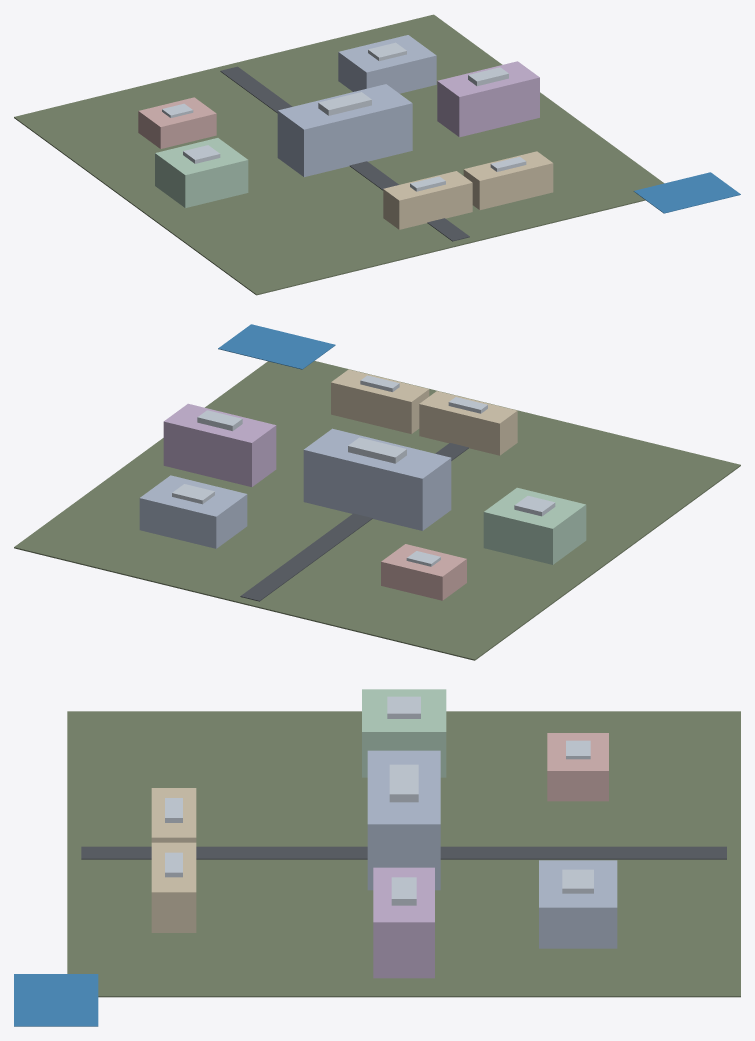
File: hnjcxy.glb
3 renders of one model, top to bottom at view 1: azimuth 30°, elevation 25°; view 2: azimuth 150°, elevation 25°; view 3: azimuth 270°, elevation 25°, orthographic. The views are drawn at different scales.
Parts seen in each view (by area): view 1: object 1, 教学楼, 学生公寓 (×2), 实验楼, 图书馆, 警体综合训练馆, 食堂, 人工湖, 主干道; view 2: object 1, 教学楼, 学生公寓 (×2), 实验楼, 图书馆, 警体综合训练馆, 食堂, 人工湖, 主干道; view 3: object 1, 教学楼, 主干道, 警体综合训练馆, 实验楼, 学生公寓 (×2), 图书馆, 人工湖, 食堂.
Boxes of the visible parts, box(x1,y1,x2,y2) form: object 1: box(14, 14, 664, 295); 教学楼: box(277, 84, 412, 177); 学生公寓 (×2): box(383, 151, 553, 229); 实验楼: box(437, 61, 539, 137); 图书馆: box(155, 138, 248, 207); 警体综合训练馆: box(338, 35, 436, 93); 食堂: box(138, 97, 216, 148); 人工湖: box(633, 172, 740, 213); 主干道: box(220, 66, 469, 241); object 1: box(14, 361, 740, 660); 教学楼: box(303, 428, 451, 530); 学生公寓 (×2): box(331, 369, 517, 455); 实验楼: box(163, 403, 276, 486); 图书馆: box(483, 487, 586, 564); 警体综合训练馆: box(139, 475, 247, 548); 食堂: box(381, 544, 466, 600); 人工湖: box(218, 324, 335, 369); 主干道: box(240, 443, 468, 601); object 1: box(67, 711, 740, 997); 教学楼: box(367, 750, 440, 890); 主干道: box(81, 846, 726, 859); 警体综合训练馆: box(539, 860, 617, 948); 实验楼: box(373, 867, 434, 978); 学生公寓 (×2): box(151, 788, 196, 932); 图书馆: box(362, 689, 446, 777); 人工湖: box(14, 974, 98, 1026); 食堂: box(547, 733, 608, 801).
Size of the model in its own units: 266 by 29.72 by 259.
